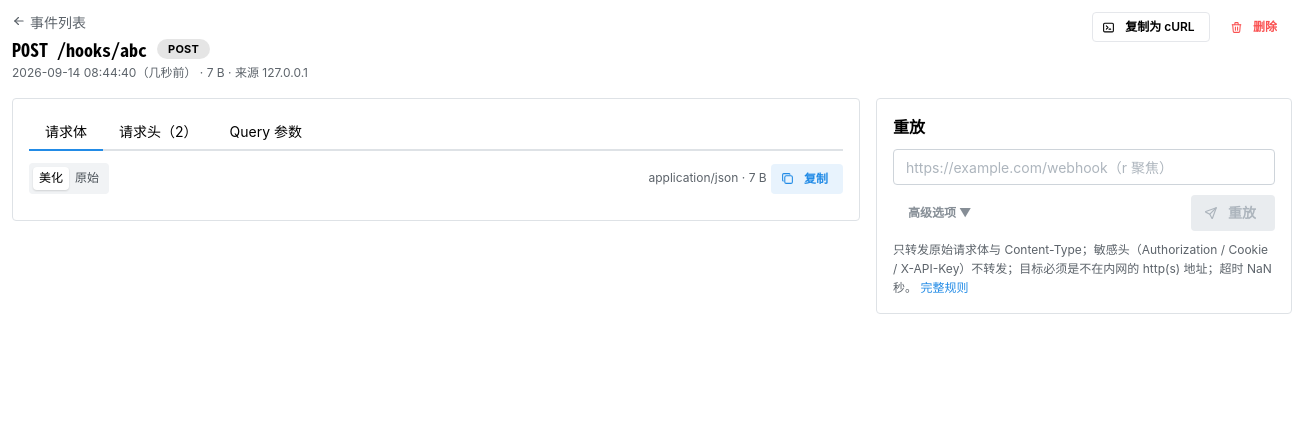
EventScreen blocked address warning › explains the refusal before sending, and still lets the user send
expect the heading "POST /hooks/abc" is shown: met, box [12,36,147,62]
Step 1. Type "http://127.0.0.1:3000/webhook" into the field named "重放目标地址" → (1084, 167), box [893,149,1275,185]
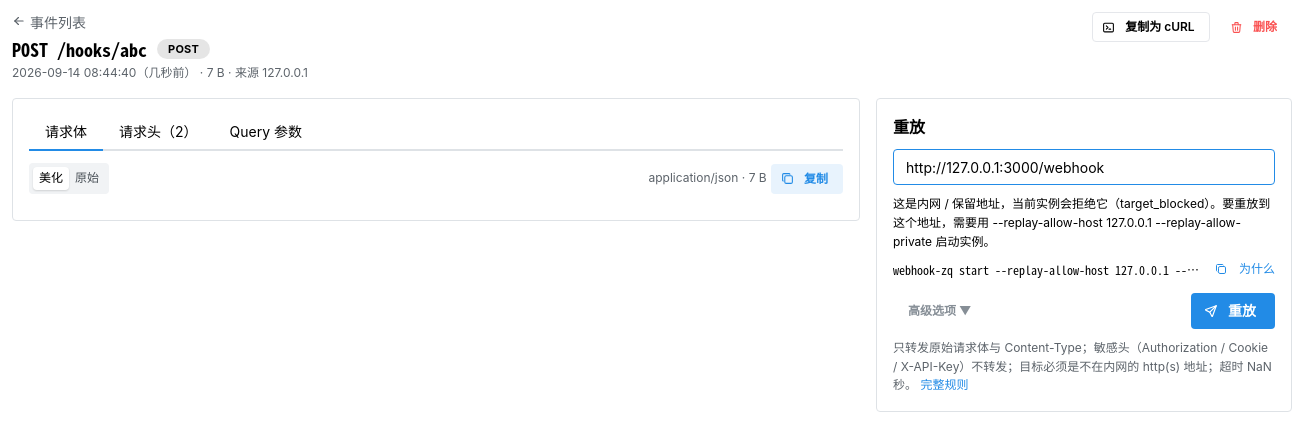
expect the text "当前实例会拒绝它" is shown: met, box [893,196,1270,249]
expect the button "重放" is enabled: met, box [1191,293,1275,329]
